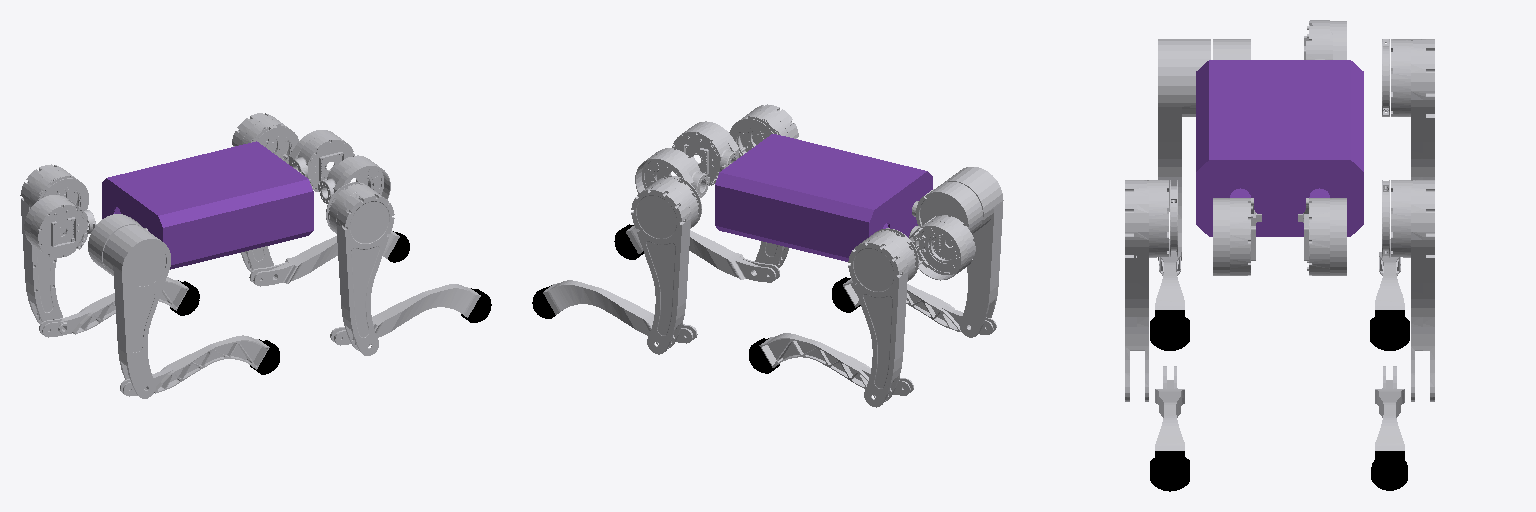
The robot description file, URDF, robot "dhav1":
<?xml version="1.0" encoding="utf-8"?>
<!-- DHAV 1.3 legged (dhav1).  Rebuilt 2026-09-03 from the SolidWorks export
     "XTR_Dummy_DHAV_1.3_L_1" (SW2URDF 1.6.0-4-g7f85cfe, exported 2026-08-27),
     the material-assigned original dhav1 CAD export, and dhav1w v1.3.

     That Aug-27 legged export carries NO material assignment - every part comes
     out at 1000 kg/m^3 - so its masses and inertia MAGNITUDES are discarded.
     Its COMs, joint frames and inertia SIGNS are correct and are used.
     See ../NOTES.md for every deviation and the evidence behind it. -->
<robot name="dhav1">
  <mujoco>
    <compiler meshdir="../meshes/" discardvisual="false"/>
  </mujoco>
  <material name="black">
    <color rgba="0.0 0.0 0.0 1.0"/>
  </material>
  <material name="purple">
    <color rgba="0.541 0.337 0.722 1.0"/>
  </material>
  <material name="aluminium">
    <color rgba="0.8 0.8 0.82 1.0"/>
  </material>

  <!-- Base link -->
  <link name="base">
    <inertial>
      <origin xyz="0 0 -0.011647" rpy="0 0 0"/>
      <mass value="7.87906075"/>
      <inertia ixx="0.03603948" ixy="-0.00013803" ixz="-0.00007439" iyy="0.09487694" iyz="0.00002758" izz="0.11626709"/>
    </inertial>
    <visual>
      <origin xyz="0 0 0" rpy="0 0 0"/>
      <geometry>
        <mesh filename="package://dhav1_description/meshes/torso.STL"/>
      </geometry>
      <material name="purple"/>
    </visual>
    <collision>
      <origin xyz="0 0 0" rpy="0 0 0"/>
      <geometry>
        <box size="0.3062 0.20 0.10"/>
      </geometry>
    </collision>
    <collision>
      <origin xyz="0.12 0.07 -0.082" rpy="0 0 0"/>
      <geometry>
        <box size="0.02 0.03 0.05"/>
      </geometry>
    </collision>
    <collision>
      <origin xyz="0.12 -0.07 -0.082" rpy="0 0 0"/>
      <geometry>
        <box size="0.02 0.03 0.05"/>
      </geometry>
    </collision>
    <collision>
      <origin xyz="-0.12 0.07 -0.082" rpy="0 0 0"/>
      <geometry>
        <box size="0.02 0.03 0.05"/>
      </geometry>
    </collision>
    <collision>
      <origin xyz="-0.12 -0.07 -0.082" rpy="0 0 0"/>
      <geometry>
        <box size="0.02 0.03 0.05"/>
      </geometry>
    </collision>
  </link>

  <!-- IMU link -->
  <link name="imu_link"/>
  <joint name="base_to_imu" type="fixed">
    <parent link="base"/>
    <child link="imu_link"/>
    <origin xyz="0 0 0" rpy="0 0 0"/>
  </joint>

  <!-- ===================== FL leg ===================== -->
  <joint name="FL_hip_joint" type="revolute">
    <parent link="base"/>
    <child link="FL_hip_link"/>
    <origin xyz="0.2235 0.0535 0.0" rpy="0 0 0"/>
    <axis xyz="1 0 0"/>
    <limit lower="-0.8378" upper="0.8378" effort="40" velocity="6.8"/>
  </joint>
  <link name="FL_hip_link">
    <inertial>
      <origin xyz="-0.0057414 0.0030508 0" rpy="0 0 0"/>
      <mass value="0.81144848"/>
      <inertia ixx="0.00046498" ixy="-0.00001172" ixz="0" iyy="0.00097192" iyz="0" izz="0.000712"/>
    </inertial>
    <visual>
      <origin xyz="0 0 0" rpy="0 0 0"/>
      <geometry>
        <mesh filename="package://dhav1_description/meshes/FL_hip.STL"/>
      </geometry>
      <material name="aluminium"/>
    </visual>
    <collision>
      <origin xyz="0.0 0.05 0.0" rpy="1.57 0 0"/>
      <geometry>
        <cylinder length="0.125" radius="0.055"/>
      </geometry>
    </collision>
  </link>
  <joint name="FL_thigh_joint" type="revolute">
    <parent link="FL_hip_link"/>
    <child link="FL_thigh_link"/>
    <origin xyz="0.0 0.09435 0.0" rpy="0 0 0"/>
    <axis xyz="0 1 0"/>
    <limit lower="-1.7169" upper="2.5758" effort="40" velocity="6.8"/>
  </joint>
  <link name="FL_thigh_link">
    <inertial>
      <origin xyz="-0.0074643 -0.0075133 -0.074231" rpy="0 0 0"/>
      <mass value="1.38185132"/>
      <inertia ixx="0.00817916" ixy="0.00006601" ixz="-0.00029421" iyy="0.00820121" iyz="0.00099956" izz="0.00129555"/>
    </inertial>
    <visual>
      <origin xyz="0 0 0" rpy="0 0 0"/>
      <geometry>
        <mesh filename="package://dhav1_description/meshes/FL_thigh.STL"/>
      </geometry>
      <material name="aluminium"/>
    </visual>
    <collision>
      <origin xyz="-0.02 0.0 -0.15" rpy="0 -0.08 0"/>
      <geometry>
        <box size="0.04 0.04 0.15"/>
      </geometry>
    </collision>
    <collision>
      <origin xyz="0.0 0.0 -0.13" rpy="0 0.24 0"/>
      <geometry>
        <box size="0.02 0.04 0.12"/>
      </geometry>
    </collision>
  </link>
  <joint name="FL_calf_joint" type="revolute">
    <parent link="FL_thigh_link"/>
    <child link="FL_calf_link"/>
    <origin xyz="0.0 0.0 -0.25" rpy="0 0 0"/>
    <axis xyz="0 1 0"/>
    <limit lower="-2.80" upper="-0.212" effort="80" velocity="6.8"/>
  </joint>
  <link name="FL_calf_link">
    <inertial>
      <origin xyz="0.0241186 0 -0.1309662" rpy="0 0 0"/>
      <mass value="0.21898730"/>
      <inertia ixx="0.0018074" ixy="0" ixz="0.0002523" iyy="0.0018783" iyz="0" izz="0.0000924"/>
    </inertial>
    <visual>
      <origin xyz="0 0 0" rpy="0 0 0"/>
      <geometry>
        <mesh filename="package://dhav1_description/meshes/FL_calf.STL"/>
      </geometry>
      <material name="aluminium"/>
    </visual>
    <collision>
      <origin xyz="0.0 0.0 -0.02" rpy="0 -0.15 0"/>
      <geometry>
        <cylinder length="0.04" radius="0.015"/>
      </geometry>
    </collision>
    <collision>
      <origin xyz="0.025 0.0 -0.11" rpy="0 -0.3 0"/>
      <geometry>
        <cylinder length="0.16" radius="0.015"/>
      </geometry>
    </collision>
    <collision>
      <origin xyz="0.037 0.0 -0.205" rpy="0 0.4 0"/>
      <geometry>
        <cylinder length="0.06" radius="0.015"/>
      </geometry>
    </collision>
  </link>
  <joint name="FL_foot_joint" type="fixed" dont_collapse="true">
    <parent link="FL_calf_link"/>
    <child link="FL_foot_link"/>
    <origin xyz="0.0004778 0.0 -0.27889" rpy="0 0 0"/>
    <axis xyz="0 0 0"/>
    <limit lower="0" upper="0" effort="1000" velocity="0"/>
  </joint>
  <link name="FL_foot_link">
    <inertial>
      <origin xyz="0.012419 0 0.020197" rpy="0 0 0"/>
      <mass value="0.07002420"/>
      <inertia ixx="0.0000202" ixy="0" ixz="0.0000024" iyy="0.0000211" iyz="0" izz="0.0000226"/>
    </inertial>
    <visual>
      <origin xyz="0 0 0" rpy="0 0 0"/>
      <geometry>
        <mesh filename="package://dhav1_description/meshes/FL_foot.STL"/>
      </geometry>
      <material name="black"/>
    </visual>
    <!-- v0's collision model, restored on operator instruction.  v0's URDF and
         MJCF disagreed on this sphere (0.03 vs 0.025), on the hip cylinder, on
         both thigh boxes and on the torso box height; the MJCF values are used
         in BOTH files here because the MJCF is the model the sims actually ran.
         See ../NOTES.md (C). -->
    <collision>
      <origin xyz="0.01 0.0 0.02" rpy="0 0 0"/>
      <geometry>
        <sphere radius="0.025"/>
      </geometry>
    </collision>
  </link>
  <link name="FL_foot_site"/>
  <joint name="FL_foot_site_joint" type="fixed" dont_collapse="true">
    <parent link="FL_foot_link"/>
    <child link="FL_foot_site"/>
    <origin xyz="0.01 0.0 -0.005" rpy="0 0 0"/>
    <axis xyz="0 0 1"/>
    <limit effort="1000" lower="0" upper="0" velocity="0"/>
  </joint>

  <!-- ===================== FR leg ===================== -->
  <joint name="FR_hip_joint" type="revolute">
    <parent link="base"/>
    <child link="FR_hip_link"/>
    <origin xyz="0.2235 -0.0535 0.0" rpy="0 0 0"/>
    <axis xyz="1 0 0"/>
    <limit lower="-0.8378" upper="0.8378" effort="40" velocity="6.8"/>
  </joint>
  <link name="FR_hip_link">
    <inertial>
      <origin xyz="-0.0057414 -0.0030508 0" rpy="0 0 0"/>
      <mass value="0.81144848"/>
      <inertia ixx="0.00046498" ixy="0.00001172" ixz="0" iyy="0.00097192" iyz="0" izz="0.000712"/>
    </inertial>
    <visual>
      <origin xyz="0 0 0" rpy="0 0 0"/>
      <geometry>
        <mesh filename="package://dhav1_description/meshes/FR_hip.STL"/>
      </geometry>
      <material name="aluminium"/>
    </visual>
    <collision>
      <origin xyz="0.0 -0.05 0.0" rpy="1.57 0 0"/>
      <geometry>
        <cylinder length="0.125" radius="0.055"/>
      </geometry>
    </collision>
  </link>
  <joint name="FR_thigh_joint" type="revolute">
    <parent link="FR_hip_link"/>
    <child link="FR_thigh_link"/>
    <origin xyz="0.0 -0.09435 0.0" rpy="0 0 0"/>
    <axis xyz="0 1 0"/>
    <limit lower="-1.7169" upper="2.5758" effort="40" velocity="6.8"/>
  </joint>
  <link name="FR_thigh_link">
    <inertial>
      <origin xyz="-0.0074643 0.0075133 -0.074231" rpy="0 0 0"/>
      <mass value="1.38185132"/>
      <inertia ixx="0.00817916" ixy="-0.00006601" ixz="-0.00029421" iyy="0.00820121" iyz="-0.00099956" izz="0.00129555"/>
    </inertial>
    <visual>
      <origin xyz="0 0 0" rpy="0 0 0"/>
      <geometry>
        <mesh filename="package://dhav1_description/meshes/FR_thigh.STL"/>
      </geometry>
      <material name="aluminium"/>
    </visual>
    <collision>
      <origin xyz="-0.02 0.0 -0.15" rpy="0 -0.08 0"/>
      <geometry>
        <box size="0.04 0.04 0.15"/>
      </geometry>
    </collision>
    <collision>
      <origin xyz="0.0 0.0 -0.13" rpy="0 0.24 0"/>
      <geometry>
        <box size="0.02 0.04 0.12"/>
      </geometry>
    </collision>
  </link>
  <joint name="FR_calf_joint" type="revolute">
    <parent link="FR_thigh_link"/>
    <child link="FR_calf_link"/>
    <origin xyz="0.0 0.0 -0.25" rpy="0 0 0"/>
    <axis xyz="0 1 0"/>
    <limit lower="-2.80" upper="-0.212" effort="80" velocity="6.8"/>
  </joint>
  <link name="FR_calf_link">
    <inertial>
      <origin xyz="0.0241186 0 -0.1309662" rpy="0 0 0"/>
      <mass value="0.21898730"/>
      <inertia ixx="0.0018074" ixy="0" ixz="0.0002523" iyy="0.0018783" iyz="0" izz="0.0000924"/>
    </inertial>
    <visual>
      <origin xyz="0 0 0" rpy="0 0 0"/>
      <geometry>
        <mesh filename="package://dhav1_description/meshes/FR_calf.STL"/>
      </geometry>
      <material name="aluminium"/>
    </visual>
    <collision>
      <origin xyz="0.0 0.0 -0.02" rpy="0 -0.15 0"/>
      <geometry>
        <cylinder length="0.04" radius="0.015"/>
      </geometry>
    </collision>
    <collision>
      <origin xyz="0.025 0.0 -0.11" rpy="0 -0.3 0"/>
      <geometry>
        <cylinder length="0.16" radius="0.015"/>
      </geometry>
    </collision>
    <collision>
      <origin xyz="0.037 0.0 -0.205" rpy="0 0.4 0"/>
      <geometry>
        <cylinder length="0.06" radius="0.015"/>
      </geometry>
    </collision>
  </link>
  <joint name="FR_foot_joint" type="fixed" dont_collapse="true">
    <parent link="FR_calf_link"/>
    <child link="FR_foot_link"/>
    <origin xyz="0.0004778 0.0 -0.27889" rpy="0 0 0"/>
    <axis xyz="0 0 0"/>
    <limit lower="0" upper="0" effort="1000" velocity="0"/>
  </joint>
  <link name="FR_foot_link">
    <inertial>
      <origin xyz="0.012419 0 0.020197" rpy="0 0 0"/>
      <mass value="0.07002420"/>
      <inertia ixx="0.0000202" ixy="0" ixz="0.0000024" iyy="0.0000211" iyz="0" izz="0.0000226"/>
    </inertial>
    <visual>
      <origin xyz="0 0 0" rpy="0 0 0"/>
      <geometry>
        <mesh filename="package://dhav1_description/meshes/FR_foot.STL"/>
      </geometry>
      <material name="black"/>
    </visual>
    <!-- v0's collision model, restored on operator instruction.  v0's URDF and
         MJCF disagreed on this sphere (0.03 vs 0.025), on the hip cylinder, on
         both thigh boxes and on the torso box height; the MJCF values are used
         in BOTH files here because the MJCF is the model the sims actually ran.
         See ../NOTES.md (C). -->
    <collision>
      <origin xyz="0.01 0.0 0.02" rpy="0 0 0"/>
      <geometry>
        <sphere radius="0.025"/>
      </geometry>
    </collision>
  </link>
  <link name="FR_foot_site"/>
  <joint name="FR_foot_site_joint" type="fixed" dont_collapse="true">
    <parent link="FR_foot_link"/>
    <child link="FR_foot_site"/>
    <origin xyz="0.01 0.0 -0.005" rpy="0 0 0"/>
    <axis xyz="0 0 1"/>
    <limit effort="1000" lower="0" upper="0" velocity="0"/>
  </joint>

  <!-- ===================== RL leg ===================== -->
  <joint name="RL_hip_joint" type="revolute">
    <parent link="base"/>
    <child link="RL_hip_link"/>
    <origin xyz="-0.2235 0.0535 0.0" rpy="0 0 0"/>
    <axis xyz="1 0 0"/>
    <limit lower="-0.8378" upper="0.8378" effort="40" velocity="6.8"/>
  </joint>
  <link name="RL_hip_link">
    <inertial>
      <origin xyz="0.0057414 0.0030508 0" rpy="0 0 0"/>
      <mass value="0.81144848"/>
      <inertia ixx="0.00046498" ixy="0.00001172" ixz="0" iyy="0.00097192" iyz="0" izz="0.000712"/>
    </inertial>
    <visual>
      <origin xyz="0 0 0" rpy="0 0 0"/>
      <geometry>
        <mesh filename="package://dhav1_description/meshes/RL_hip.STL"/>
      </geometry>
      <material name="aluminium"/>
    </visual>
    <collision>
      <origin xyz="0.0 0.05 0.0" rpy="1.57 0 0"/>
      <geometry>
        <cylinder length="0.125" radius="0.055"/>
      </geometry>
    </collision>
  </link>
  <joint name="RL_thigh_joint" type="revolute">
    <parent link="RL_hip_link"/>
    <child link="RL_thigh_link"/>
    <origin xyz="0.0 0.09435 0.0" rpy="0 0 0"/>
    <axis xyz="0 1 0"/>
    <limit lower="-1.7169" upper="2.5758" effort="40" velocity="6.8"/>
  </joint>
  <link name="RL_thigh_link">
    <inertial>
      <origin xyz="-0.0074643 -0.0075133 -0.074231" rpy="0 0 0"/>
      <mass value="1.38185132"/>
      <inertia ixx="0.00817916" ixy="0.00006601" ixz="-0.00029421" iyy="0.00820121" iyz="0.00099956" izz="0.00129555"/>
    </inertial>
    <visual>
      <origin xyz="0 0 0" rpy="0 0 0"/>
      <geometry>
        <mesh filename="package://dhav1_description/meshes/RL_thigh.STL"/>
      </geometry>
      <material name="aluminium"/>
    </visual>
    <collision>
      <origin xyz="-0.02 0.0 -0.15" rpy="0 -0.08 0"/>
      <geometry>
        <box size="0.04 0.04 0.15"/>
      </geometry>
    </collision>
    <collision>
      <origin xyz="0.0 0.0 -0.13" rpy="0 0.24 0"/>
      <geometry>
        <box size="0.02 0.04 0.12"/>
      </geometry>
    </collision>
  </link>
  <joint name="RL_calf_joint" type="revolute">
    <parent link="RL_thigh_link"/>
    <child link="RL_calf_link"/>
    <origin xyz="0.0 0.0 -0.25" rpy="0 0 0"/>
    <axis xyz="0 1 0"/>
    <limit lower="-2.80" upper="-0.212" effort="80" velocity="6.8"/>
  </joint>
  <link name="RL_calf_link">
    <inertial>
      <origin xyz="0.0241186 0 -0.1309662" rpy="0 0 0"/>
      <mass value="0.21898730"/>
      <inertia ixx="0.0018074" ixy="0" ixz="0.0002523" iyy="0.0018783" iyz="0" izz="0.0000924"/>
    </inertial>
    <visual>
      <origin xyz="0 0 0" rpy="0 0 0"/>
      <geometry>
        <mesh filename="package://dhav1_description/meshes/RL_calf.STL"/>
      </geometry>
      <material name="aluminium"/>
    </visual>
    <collision>
      <origin xyz="0.0 0.0 -0.02" rpy="0 -0.15 0"/>
      <geometry>
        <cylinder length="0.04" radius="0.015"/>
      </geometry>
    </collision>
    <collision>
      <origin xyz="0.025 0.0 -0.11" rpy="0 -0.3 0"/>
      <geometry>
        <cylinder length="0.16" radius="0.015"/>
      </geometry>
    </collision>
    <collision>
      <origin xyz="0.037 0.0 -0.205" rpy="0 0.4 0"/>
      <geometry>
        <cylinder length="0.06" radius="0.015"/>
      </geometry>
    </collision>
  </link>
  <joint name="RL_foot_joint" type="fixed" dont_collapse="true">
    <parent link="RL_calf_link"/>
    <child link="RL_foot_link"/>
    <origin xyz="0.0004778 0.0 -0.27889" rpy="0 0 0"/>
    <axis xyz="0 0 0"/>
    <limit lower="0" upper="0" effort="1000" velocity="0"/>
  </joint>
  <link name="RL_foot_link">
    <inertial>
      <origin xyz="0.012419 0 0.020197" rpy="0 0 0"/>
      <mass value="0.07002420"/>
      <inertia ixx="0.0000202" ixy="0" ixz="0.0000024" iyy="0.0000211" iyz="0" izz="0.0000226"/>
    </inertial>
    <visual>
      <origin xyz="0 0 0" rpy="0 0 0"/>
      <geometry>
        <mesh filename="package://dhav1_description/meshes/RL_foot.STL"/>
      </geometry>
      <material name="black"/>
    </visual>
    <!-- v0's collision model, restored on operator instruction.  v0's URDF and
         MJCF disagreed on this sphere (0.03 vs 0.025), on the hip cylinder, on
         both thigh boxes and on the torso box height; the MJCF values are used
         in BOTH files here because the MJCF is the model the sims actually ran.
         See ../NOTES.md (C). -->
    <collision>
      <origin xyz="0.01 0.0 0.02" rpy="0 0 0"/>
      <geometry>
        <sphere radius="0.025"/>
      </geometry>
    </collision>
  </link>
  <link name="RL_foot_site"/>
  <joint name="RL_foot_site_joint" type="fixed" dont_collapse="true">
    <parent link="RL_foot_link"/>
    <child link="RL_foot_site"/>
    <origin xyz="0.01 0.0 -0.005" rpy="0 0 0"/>
    <axis xyz="0 0 1"/>
    <limit effort="1000" lower="0" upper="0" velocity="0"/>
  </joint>

  <!-- ===================== RR leg ===================== -->
  <joint name="RR_hip_joint" type="revolute">
    <parent link="base"/>
    <child link="RR_hip_link"/>
    <origin xyz="-0.2235 -0.0535 0.0" rpy="0 0 0"/>
    <axis xyz="1 0 0"/>
    <limit lower="-0.8378" upper="0.8378" effort="40" velocity="6.8"/>
  </joint>
  <link name="RR_hip_link">
    <inertial>
      <origin xyz="0.0057414 -0.0030508 0" rpy="0 0 0"/>
      <mass value="0.81144848"/>
      <inertia ixx="0.00046498" ixy="-0.00001172" ixz="0" iyy="0.00097192" iyz="0" izz="0.000712"/>
    </inertial>
    <visual>
      <origin xyz="0 0 0" rpy="0 0 0"/>
      <geometry>
        <mesh filename="package://dhav1_description/meshes/RR_hip.STL"/>
      </geometry>
      <material name="aluminium"/>
    </visual>
    <collision>
      <origin xyz="0.0 -0.05 0.0" rpy="1.57 0 0"/>
      <geometry>
        <cylinder length="0.125" radius="0.055"/>
      </geometry>
    </collision>
  </link>
  <joint name="RR_thigh_joint" type="revolute">
    <parent link="RR_hip_link"/>
    <child link="RR_thigh_link"/>
    <origin xyz="0.0 -0.09435 0.0" rpy="0 0 0"/>
    <axis xyz="0 1 0"/>
    <limit lower="-1.7169" upper="2.5758" effort="40" velocity="6.8"/>
  </joint>
  <link name="RR_thigh_link">
    <inertial>
      <origin xyz="-0.0074643 0.0075133 -0.074231" rpy="0 0 0"/>
      <mass value="1.38185132"/>
      <inertia ixx="0.00817916" ixy="-0.00006601" ixz="-0.00029421" iyy="0.00820121" iyz="-0.00099956" izz="0.00129555"/>
    </inertial>
    <visual>
      <origin xyz="0 0 0" rpy="0 0 0"/>
      <geometry>
        <mesh filename="package://dhav1_description/meshes/RR_thigh.STL"/>
      </geometry>
      <material name="aluminium"/>
    </visual>
    <collision>
      <origin xyz="-0.02 0.0 -0.15" rpy="0 -0.08 0"/>
      <geometry>
        <box size="0.04 0.04 0.15"/>
      </geometry>
    </collision>
    <collision>
      <origin xyz="0.0 0.0 -0.13" rpy="0 0.24 0"/>
      <geometry>
        <box size="0.02 0.04 0.12"/>
      </geometry>
    </collision>
  </link>
  <joint name="RR_calf_joint" type="revolute">
    <parent link="RR_thigh_link"/>
    <child link="RR_calf_link"/>
    <origin xyz="0.0 0.0 -0.25" rpy="0 0 0"/>
    <axis xyz="0 1 0"/>
    <limit lower="-2.80" upper="-0.212" effort="80" velocity="6.8"/>
  </joint>
  <link name="RR_calf_link">
    <inertial>
      <origin xyz="0.0241186 0 -0.1309662" rpy="0 0 0"/>
      <mass value="0.21898730"/>
      <inertia ixx="0.0018074" ixy="0" ixz="0.0002523" iyy="0.0018783" iyz="0" izz="0.0000924"/>
    </inertial>
    <visual>
      <origin xyz="0 0 0" rpy="0 0 0"/>
      <geometry>
        <mesh filename="package://dhav1_description/meshes/RR_calf.STL"/>
      </geometry>
      <material name="aluminium"/>
    </visual>
    <collision>
      <origin xyz="0.0 0.0 -0.02" rpy="0 -0.15 0"/>
      <geometry>
        <cylinder length="0.04" radius="0.015"/>
      </geometry>
    </collision>
    <collision>
      <origin xyz="0.025 0.0 -0.11" rpy="0 -0.3 0"/>
      <geometry>
        <cylinder length="0.16" radius="0.015"/>
      </geometry>
    </collision>
    <collision>
      <origin xyz="0.037 0.0 -0.205" rpy="0 0.4 0"/>
      <geometry>
        <cylinder length="0.06" radius="0.015"/>
      </geometry>
    </collision>
  </link>
  <joint name="RR_foot_joint" type="fixed" dont_collapse="true">
    <parent link="RR_calf_link"/>
    <child link="RR_foot_link"/>
    <origin xyz="0.0004778 0.0 -0.27889" rpy="0 0 0"/>
    <axis xyz="0 0 0"/>
    <limit lower="0" upper="0" effort="1000" velocity="0"/>
  </joint>
  <link name="RR_foot_link">
    <inertial>
      <origin xyz="0.012419 0 0.020197" rpy="0 0 0"/>
      <mass value="0.07002420"/>
      <inertia ixx="0.0000202" ixy="0" ixz="0.0000024" iyy="0.0000211" iyz="0" izz="0.0000226"/>
    </inertial>
    <visual>
      <origin xyz="0 0 0" rpy="0 0 0"/>
      <geometry>
        <mesh filename="package://dhav1_description/meshes/RR_foot.STL"/>
      </geometry>
      <material name="black"/>
    </visual>
    <!-- v0's collision model, restored on operator instruction.  v0's URDF and
         MJCF disagreed on this sphere (0.03 vs 0.025), on the hip cylinder, on
         both thigh boxes and on the torso box height; the MJCF values are used
         in BOTH files here because the MJCF is the model the sims actually ran.
         See ../NOTES.md (C). -->
    <collision>
      <origin xyz="0.01 0.0 0.02" rpy="0 0 0"/>
      <geometry>
        <sphere radius="0.025"/>
      </geometry>
    </collision>
  </link>
  <link name="RR_foot_site"/>
  <joint name="RR_foot_site_joint" type="fixed" dont_collapse="true">
    <parent link="RR_foot_link"/>
    <child link="RR_foot_site"/>
    <origin xyz="0.01 0.0 -0.005" rpy="0 0 0"/>
    <axis xyz="0 0 1"/>
    <limit effort="1000" lower="0" upper="0" velocity="0"/>
  </joint>
</robot>

--- Facts derived from the render (not from the file) ---
Views: 3 orthographic renders of the robot side by side, from view 1: azimuth 30°, elevation 25°; view 2: azimuth 150°, elevation 25°; view 3: azimuth 270°, elevation 25°.
Robot: dhav1 — 22 links, 21 joints (12 revolute, 9 fixed); root link base; default pose: all joints at 0 but 4 set to mid-range because 0 is outside their limits (FL_calf_joint = -1.51, FR_calf_joint = -1.51, RL_calf_joint = -1.51, RR_calf_joint = -1.51).
Links seen in each view (by area): view 1: base, FR_thigh_link, RR_thigh_link, RL_thigh_link, RL_hip_link, RR_calf_link, FR_calf_link, FL_thigh_link, FL_hip_link, RL_calf_link, FL_calf_link, FR_hip_link (+1 smaller); view 2: base, FL_thigh_link, RL_thigh_link, RR_thigh_link, RL_hip_link, FL_calf_link, RL_calf_link, FR_thigh_link, FR_hip_link, RR_hip_link, FR_calf_link, FL_hip_link (+1 smaller); view 3: base, FL_thigh_link, FR_thigh_link, RL_thigh_link, RR_thigh_link, FL_hip_link, FR_hip_link, FL_calf_link, FR_calf_link, RL_hip_link, RL_foot_link, RR_foot_link (+5 smaller).
Boxes of the visible links, box(x1,y1,x2,y2) form: base: box(102, 141, 313, 269); FR_thigh_link: box(326, 182, 394, 355); RR_thigh_link: box(103, 225, 170, 398); RL_thigh_link: box(20, 164, 88, 324); RL_hip_link: box(24, 195, 96, 257); RR_calf_link: box(120, 335, 269, 396); FR_calf_link: box(330, 284, 480, 345); FL_thigh_link: box(232, 113, 298, 271); FL_hip_link: box(289, 130, 354, 191); RL_calf_link: box(39, 277, 188, 337); FL_calf_link: box(249, 231, 399, 286); FR_hip_link: box(318, 155, 390, 203); base: box(715, 134, 932, 261); FL_thigh_link: box(631, 175, 701, 354); RL_thigh_link: box(848, 228, 918, 407); RR_thigh_link: box(944, 167, 1003, 337); RL_hip_link: box(909, 215, 975, 280); FL_calf_link: box(543, 280, 697, 343); RL_calf_link: box(759, 333, 913, 395); FR_thigh_link: box(729, 104, 798, 267); FR_hip_link: box(672, 121, 738, 185); RR_hip_link: box(912, 182, 982, 246); FR_calf_link: box(626, 226, 779, 282); FL_hip_link: box(635, 148, 709, 197); base: box(1196, 60, 1363, 236); FL_thigh_link: box(1382, 180, 1434, 401); FR_thigh_link: box(1125, 180, 1177, 401); RL_thigh_link: box(1382, 39, 1434, 179); RR_thigh_link: box(1158, 39, 1210, 260); FL_hip_link: box(1298, 198, 1346, 275); FR_hip_link: box(1213, 198, 1261, 275); FL_calf_link: box(1375, 366, 1404, 450); FR_calf_link: box(1155, 366, 1184, 450); RL_hip_link: box(1304, 20, 1346, 59); RL_foot_link: box(1370, 310, 1409, 350); RR_foot_link: box(1150, 310, 1189, 350).
Bounding box of the posed robot: 0.8469 × 0.4167 × 0.3413 m (x, y, z).
Meshes: 17 distinct files referenced, 17 mesh visuals loaded (17 binary STL).
